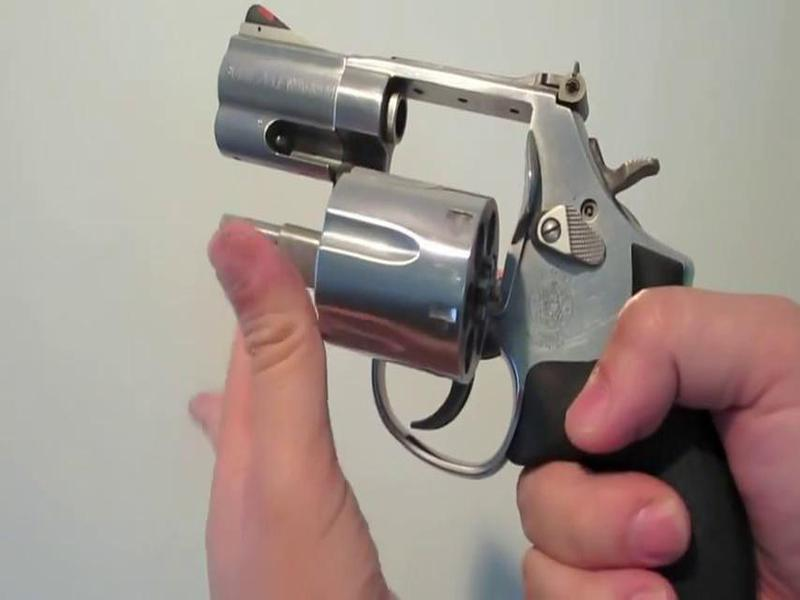Revolver: (206, 5, 766, 584)
